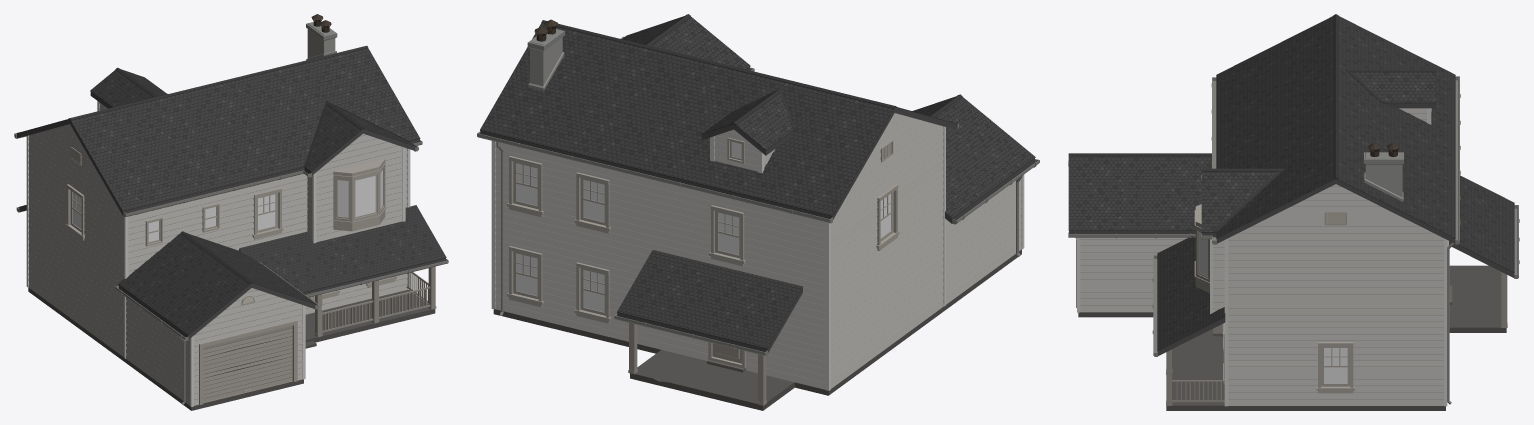
Rendered from SM_Bldg_Suburb_House_08.fbx.
3 views of the same model, side by side, from view 1: azimuth 30°, elevation 25°; view 2: azimuth 150°, elevation 25°; view 3: azimuth 270°, elevation 25° (orthographic). The views are drawn at different scales.
Parts seen in each view (by area): view 1: SM_Bldg_Suburb_House_08, SM_Bldg_Suburb_House_08_Glass; view 2: SM_Bldg_Suburb_House_08, SM_Bldg_Suburb_House_08_Glass; view 3: SM_Bldg_Suburb_House_08, SM_Bldg_Suburb_House_08_Glass.
Part boxes in pixels (x1,y1,x2,y2): SM_Bldg_Suburb_House_08: (14,14,448,410); SM_Bldg_Suburb_House_08_Glass: (72,170,382,241); SM_Bldg_Suburb_House_08: (477,14,1039,410); SM_Bldg_Suburb_House_08_Glass: (516,142,891,312); SM_Bldg_Suburb_House_08: (1068,14,1519,410); SM_Bldg_Suburb_House_08_Glass: (1199,232,1347,383).
Bounding box in the file's own units: 1328 × 966 × 1527.
